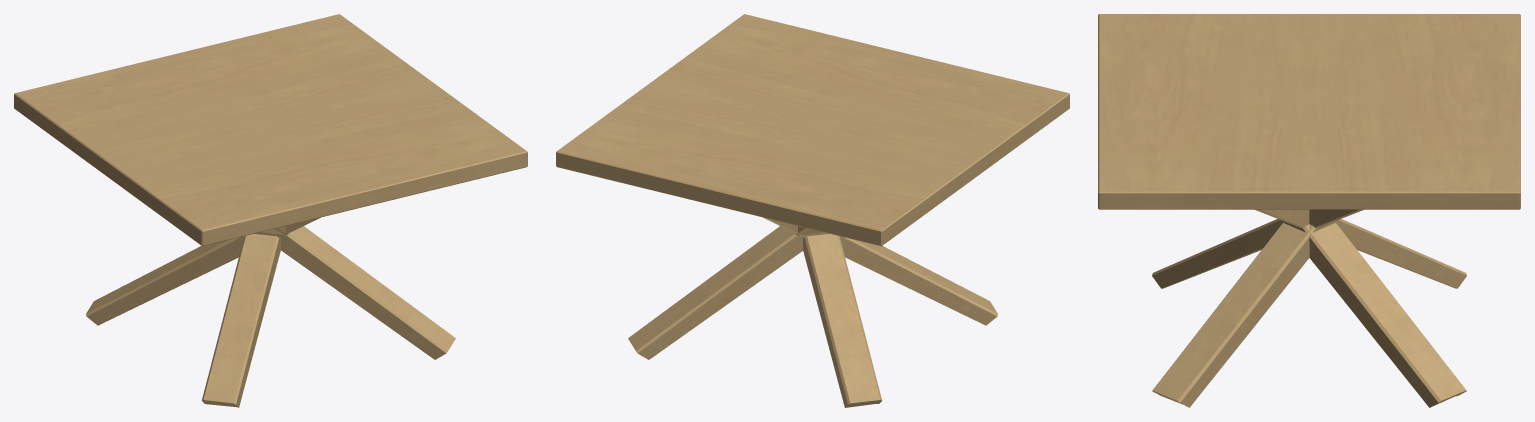
File: square-beech.glb
3 renders of one model, left to right at view 1: azimuth 30°, elevation 25°; view 2: azimuth 150°, elevation 25°; view 3: azimuth 270°, elevation 25°, orthographic. The views are drawn at different scales.
Parts seen in each view (by area): view 1: Wood_Square, Base_Square; view 2: Wood_Square, Base_Square; view 3: Wood_Square, Base_Square.
Boxes of the visible parts, x1,y1,x2,y2 form: Wood_Square: (14, 14, 527, 246); Base_Square: (86, 217, 455, 407); Wood_Square: (556, 14, 1069, 246); Base_Square: (628, 217, 997, 407); Wood_Square: (1098, 14, 1520, 209); Base_Square: (1152, 209, 1466, 407).
Bounding box in the file's own units: 1.22 × 0.762 × 1.22.
Materials: 1 (1 with a texture image).
